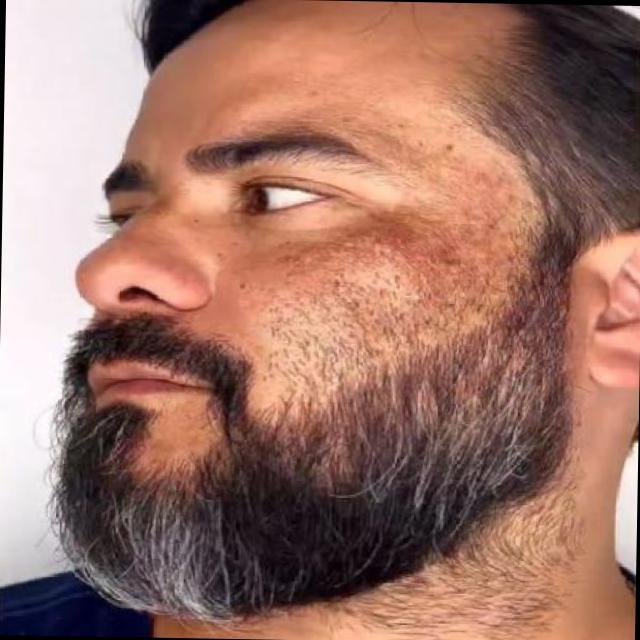melasma: (223, 200, 507, 357)
